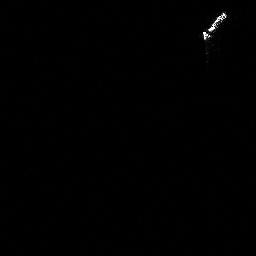ship: (198, 9, 230, 42)
